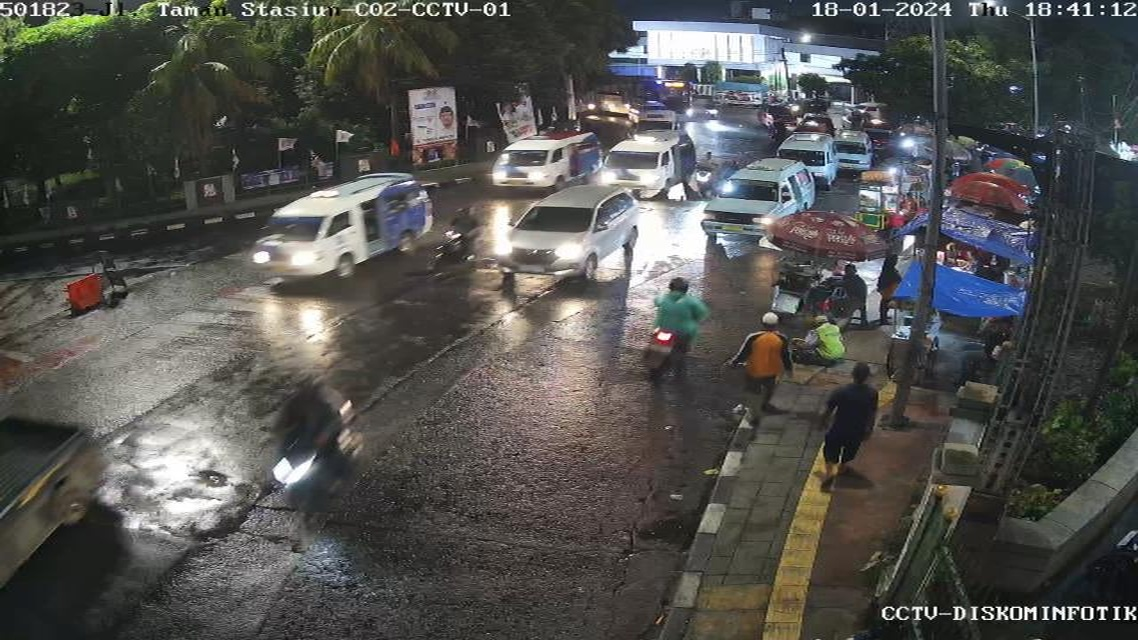Gerobak: (766, 254, 857, 325), (887, 293, 950, 373), (861, 177, 903, 229)
